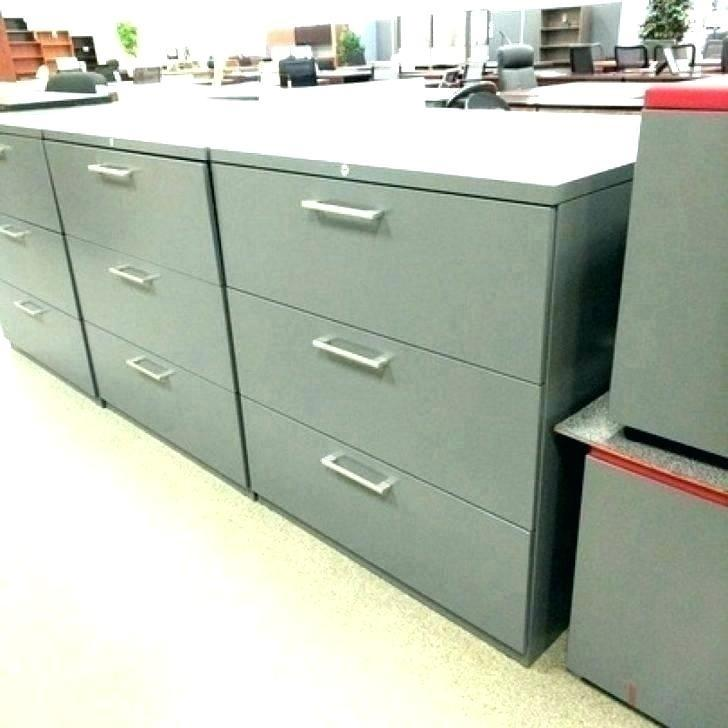cabinet_door: (216, 183, 541, 316), (251, 455, 530, 592), (240, 318, 541, 440), (52, 151, 204, 238), (79, 249, 227, 338), (107, 361, 237, 434), (4, 301, 89, 358), (0, 216, 59, 278)
handle: (318, 447, 401, 503), (296, 191, 391, 228), (312, 337, 395, 376), (107, 267, 160, 293), (88, 158, 140, 184), (125, 359, 173, 386), (14, 298, 48, 323), (0, 220, 27, 246)
